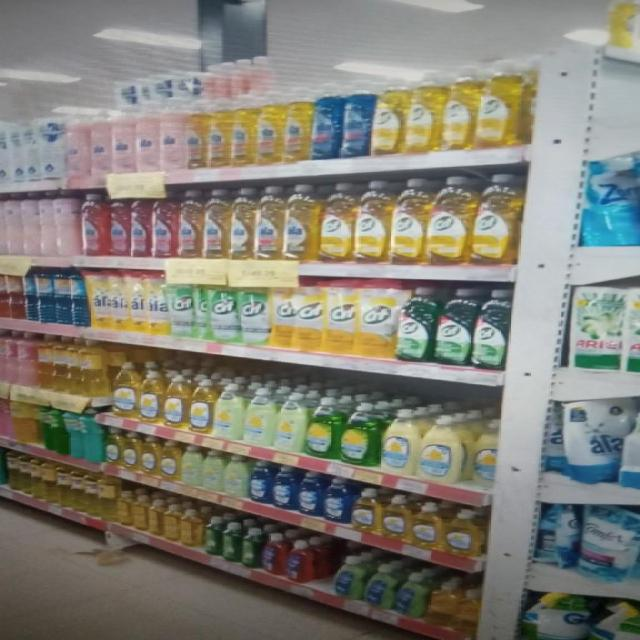ala_conc_amarillo: (284, 183, 318, 261), (255, 185, 283, 261), (284, 90, 312, 163), (229, 187, 254, 260), (257, 94, 283, 164), (203, 188, 228, 259), (177, 189, 202, 259), (231, 96, 256, 166), (206, 100, 231, 168), (185, 102, 205, 169)
ala_conc_azul: (341, 81, 371, 158), (312, 84, 341, 161)
ala_conc_rojo: (81, 192, 107, 257), (153, 188, 176, 258), (130, 189, 151, 258), (108, 192, 129, 257)
ala_crem_rosado: (53, 191, 79, 257)
ala_sachet_amarillo: (146, 272, 168, 336), (88, 269, 108, 330), (108, 270, 126, 332), (127, 270, 144, 334)
cif_conc_bot_amarilla: (472, 173, 519, 266), (427, 175, 471, 266), (477, 62, 523, 149), (391, 178, 426, 266), (405, 72, 441, 154), (355, 180, 388, 264), (442, 67, 475, 151), (320, 182, 353, 263)
cif_conc_botella_verde: (473, 288, 509, 371), (397, 286, 433, 362), (436, 288, 471, 366)
cif_conc_sachet_amarillo: (358, 281, 396, 359), (324, 281, 356, 355), (294, 281, 324, 352), (270, 280, 294, 349)
magistral_con_amarillo: (111, 361, 138, 418), (188, 375, 213, 433), (139, 362, 162, 424), (164, 372, 187, 428)
magistral_con_crema: (419, 412, 465, 483), (381, 408, 417, 477)
